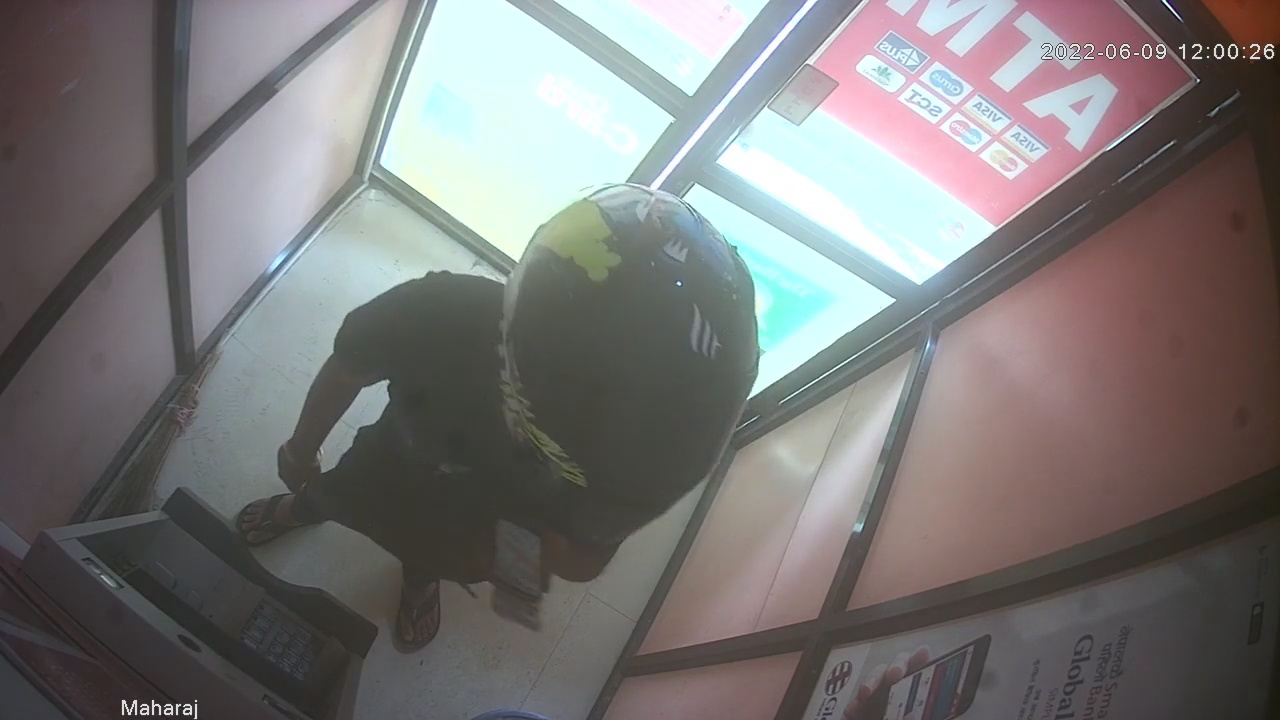helmet: (489, 182, 758, 516)
person: (235, 181, 762, 652)
